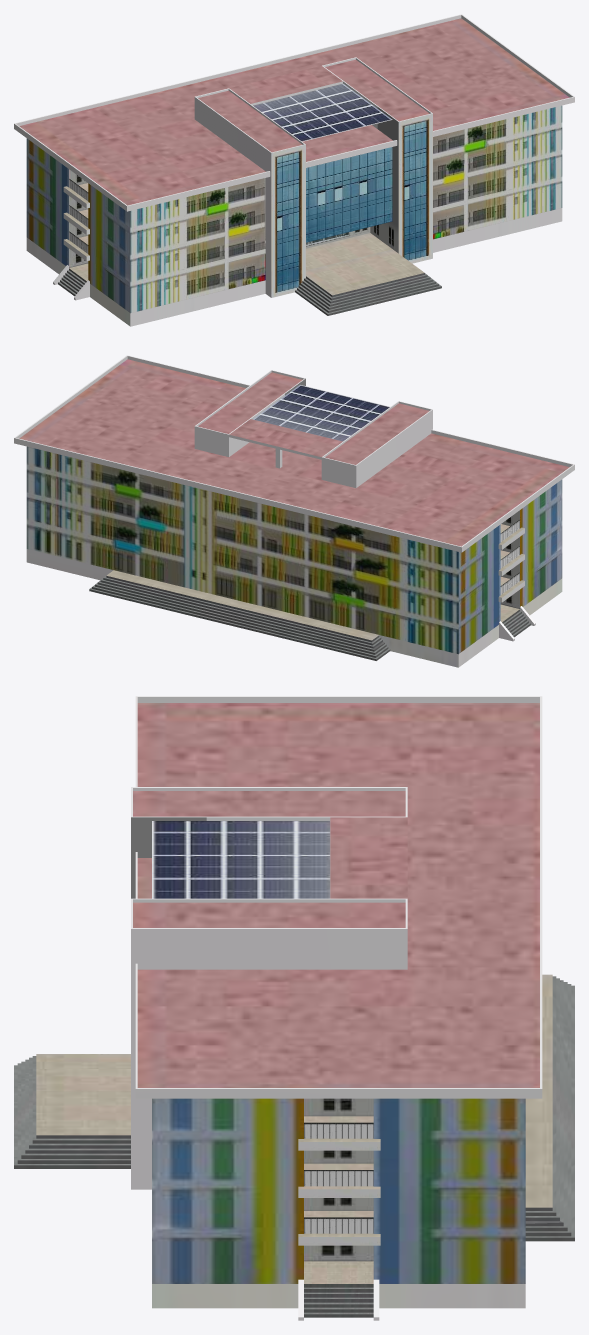
3 views of the same model, one above another, from view 1: azimuth 30°, elevation 25°; view 2: azimuth 150°, elevation 25°; view 3: azimuth 270°, elevation 25° (orthographic). The views are drawn at different scales.
Parts seen in each view (by area): view 1: HN1368_TruongMamNonNamTrungYen; view 2: HN1368_TruongMamNonNamTrungYen; view 3: HN1368_TruongMamNonNamTrungYen.
Part boxes in pixels (x1,y1,x2,y2): HN1368_TruongMamNonNamTrungYen: (14, 14, 574, 326); HN1368_TruongMamNonNamTrungYen: (14, 355, 574, 667); HN1368_TruongMamNonNamTrungYen: (14, 696, 574, 1320).
Size of the model in its own units: 63.97 by 19.26 by 37.55.
1 material, 1 textured.
